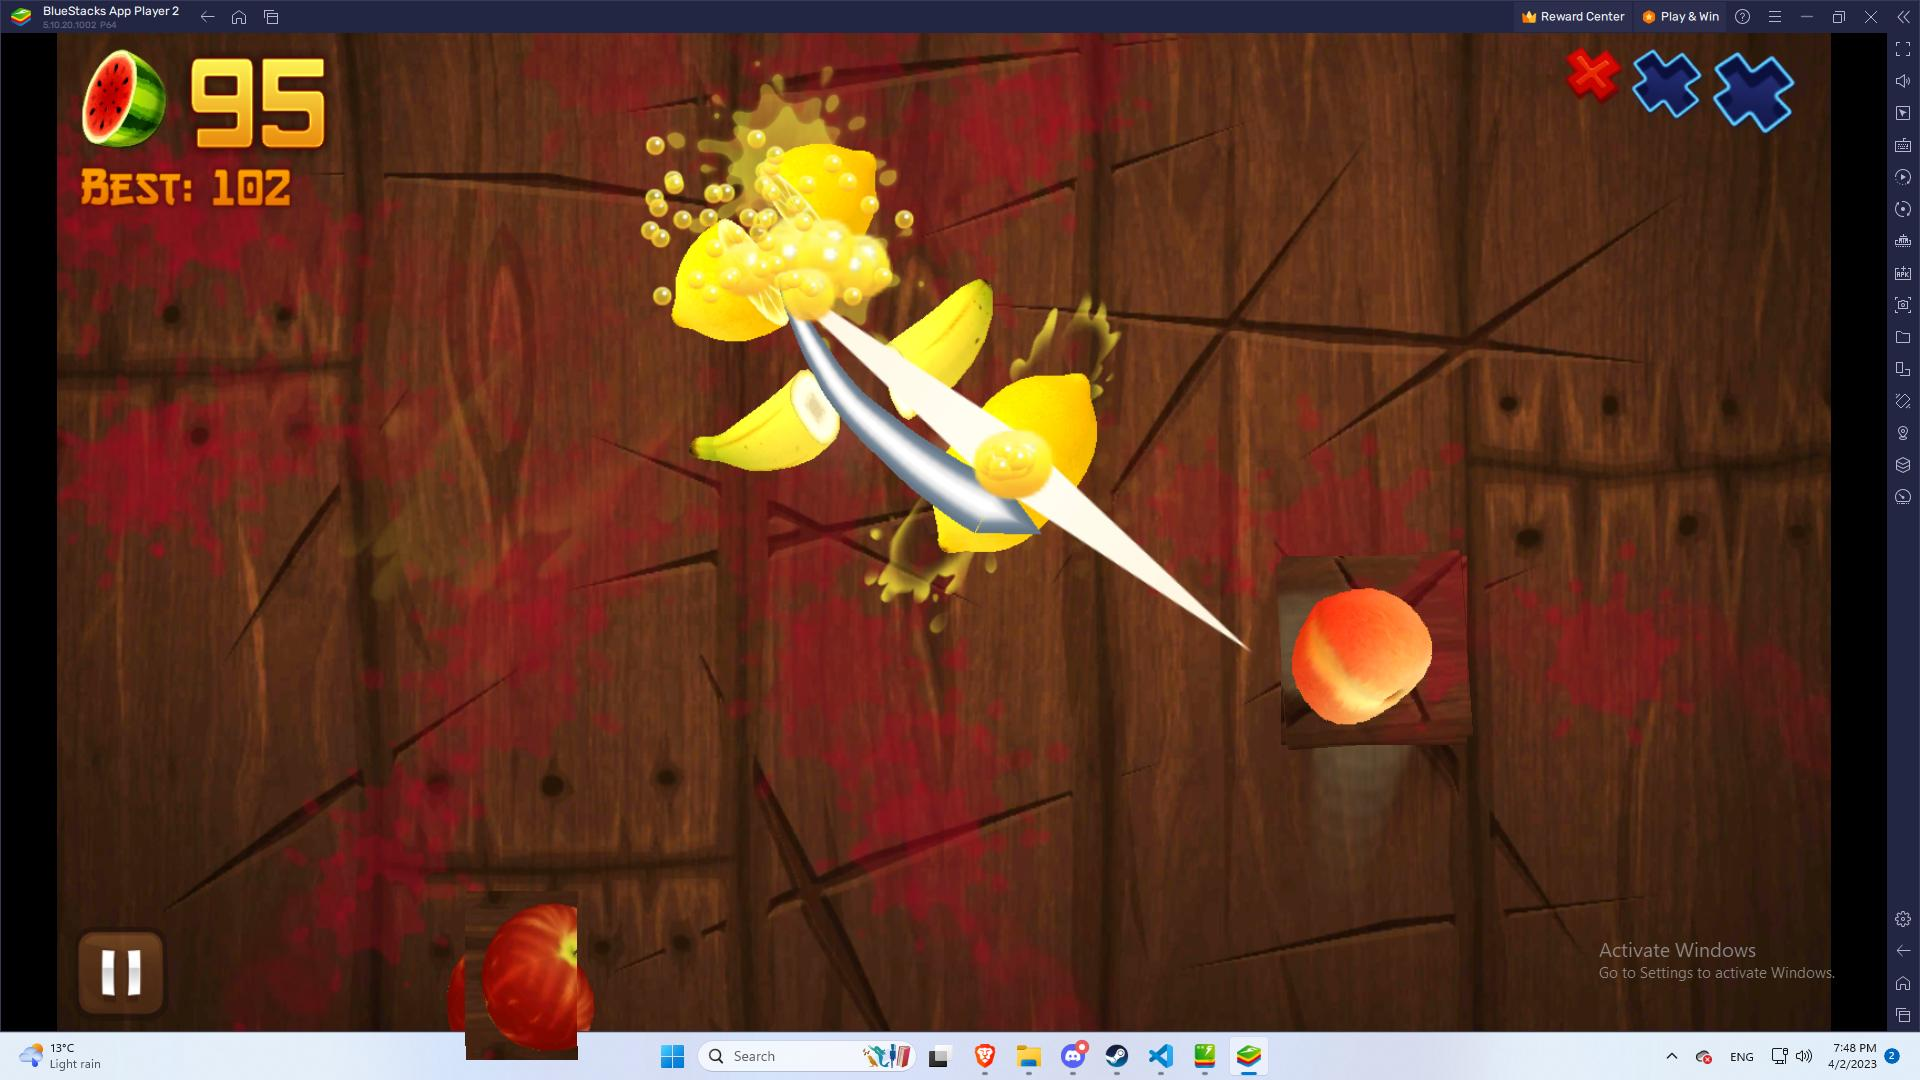fruit: (1278, 554, 1472, 748), (451, 905, 592, 1046)
